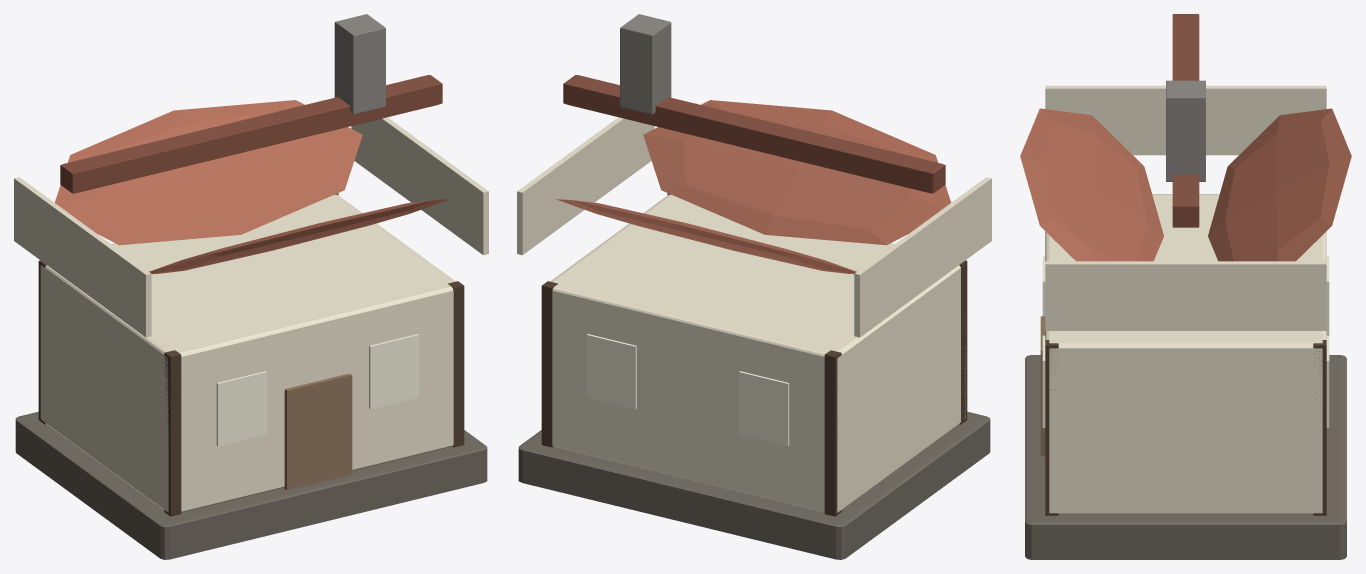
File: kominka_red.glb
The picture shows the model from 3 angles, left to right: view 1: azimuth 30°, elevation 25°; view 2: azimuth 150°, elevation 25°; view 3: azimuth 270°, elevation 25°; orthographic projection. The views are drawn at different scales.
Visible parts, largest first — view 1: kominka_red; view 2: kominka_red; view 3: kominka_red.
Part boxes in pixels (x1,y1,x2,y2): kominka_red: (14, 14, 488, 559); kominka_red: (517, 14, 991, 559); kominka_red: (1020, 14, 1351, 559).
Size of the model in its own units: 3.4 by 3.65 by 2.47.
